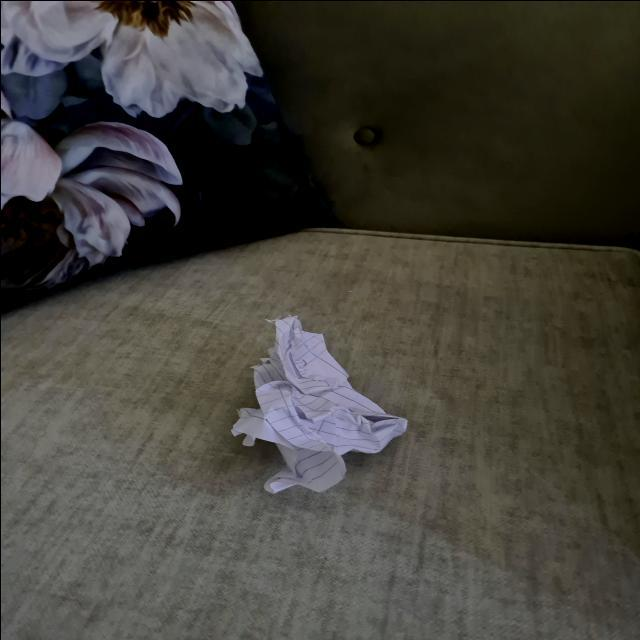Paper: (218, 309, 412, 504)
